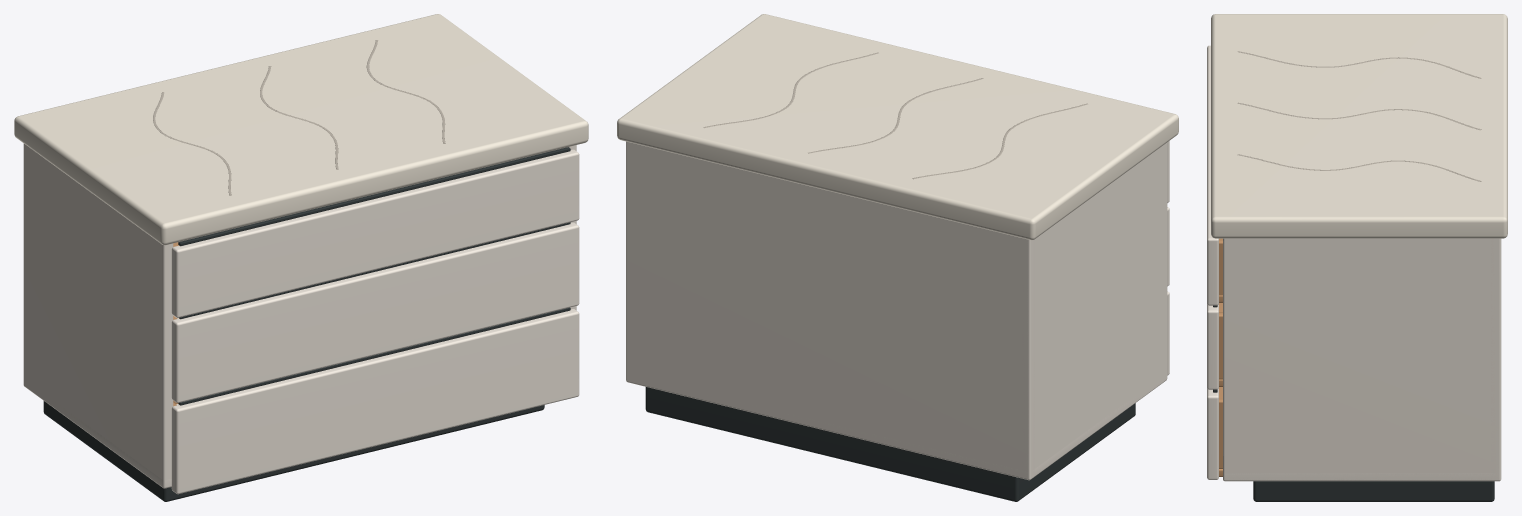
File: kitchenModernCounterWhite.glb
3 renders of one model, left to right at view 1: azimuth 30°, elevation 25°; view 2: azimuth 150°, elevation 25°; view 3: azimuth 270°, elevation 25°, orthographic. The views are drawn at different scales.
Parts seen in each view (by area): view 1: Thick stone worktop, Handleless kitchen drawer.002, Storage inner side, Handleless kitchen drawer.001, Handleless kitchen drawer, Recessed kitchen plinth, Recessed drawer pull, Recessed drawer pull.002, Recessed drawer pull.001, Storage inner floor; view 2: Storage inner back, Thick stone worktop, Storage inner side, Recessed kitchen plinth, Storage inner floor; view 3: Storage inner side.001, Thick stone worktop, Recessed kitchen plinth, Storage inner floor, Handleless kitchen drawer, Handleless kitchen drawer.002, Handleless kitchen drawer.001, Storage inner back, Fine stone vein, Fine stone vein.002, Fine stone vein.001.
Boxes of the visible parts, x1=… form: Thick stone worktop: x1=14, y1=14, x2=588, y2=245; Handleless kitchen drawer.002: x1=171, y1=309, x2=579, y2=494; Storage inner side: x1=23, y1=143, x2=173, y2=488; Handleless kitchen drawer.001: x1=171, y1=222, x2=579, y2=402; Handleless kitchen drawer: x1=171, y1=149, x2=579, y2=317; Recessed kitchen plinth: x1=43, y1=401, x2=544, y2=501; Recessed drawer pull: x1=178, y1=147, x2=570, y2=246; Recessed drawer pull.002: x1=178, y1=307, x2=570, y2=405; Recessed drawer pull.001: x1=179, y1=222, x2=570, y2=319; Storage inner floor: x1=52, y1=401, x2=178, y2=488; Storage inner back: x1=626, y1=141, x2=1034, y2=480; Thick stone worktop: x1=617, y1=14, x2=1178, y2=240; Storage inner side: x1=1022, y1=142, x2=1167, y2=479; Recessed kitchen plinth: x1=645, y1=387, x2=1135, y2=501; Storage inner floor: x1=787, y1=379, x2=1166, y2=476; Storage inner side.001: x1=1223, y1=238, x2=1501, y2=481; Thick stone worktop: x1=1211, y1=14, x2=1507, y2=238; Recessed kitchen plinth: x1=1253, y1=481, x2=1494, y2=501; Storage inner floor: x1=1224, y1=473, x2=1498, y2=481; Handleless kitchen drawer: x1=1207, y1=45, x2=1218, y2=305; Handleless kitchen drawer.002: x1=1207, y1=388, x2=1218, y2=479; Handleless kitchen drawer.001: x1=1207, y1=304, x2=1218, y2=389; Storage inner back: x1=1491, y1=238, x2=1501, y2=480; Fine stone vein: x1=1237, y1=51, x2=1481, y2=78; Fine stone vein.002: x1=1237, y1=154, x2=1481, y2=181; Fine stone vein.001: x1=1237, y1=102, x2=1481, y2=130.
Size of the model in its own units: 1.84 by 1.23 by 1.13.
